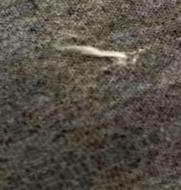snag: (50, 37, 145, 71)
